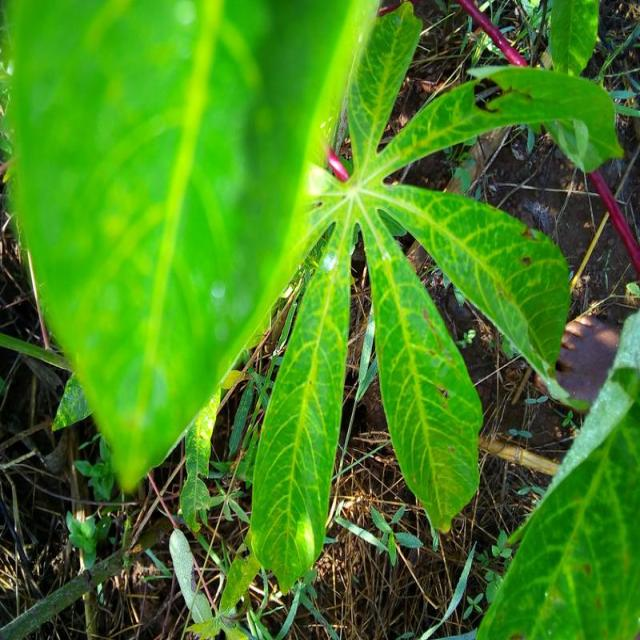cassava leaf: (246, 3, 624, 593), (4, 0, 378, 494), (474, 307, 638, 638), (248, 209, 354, 594)
